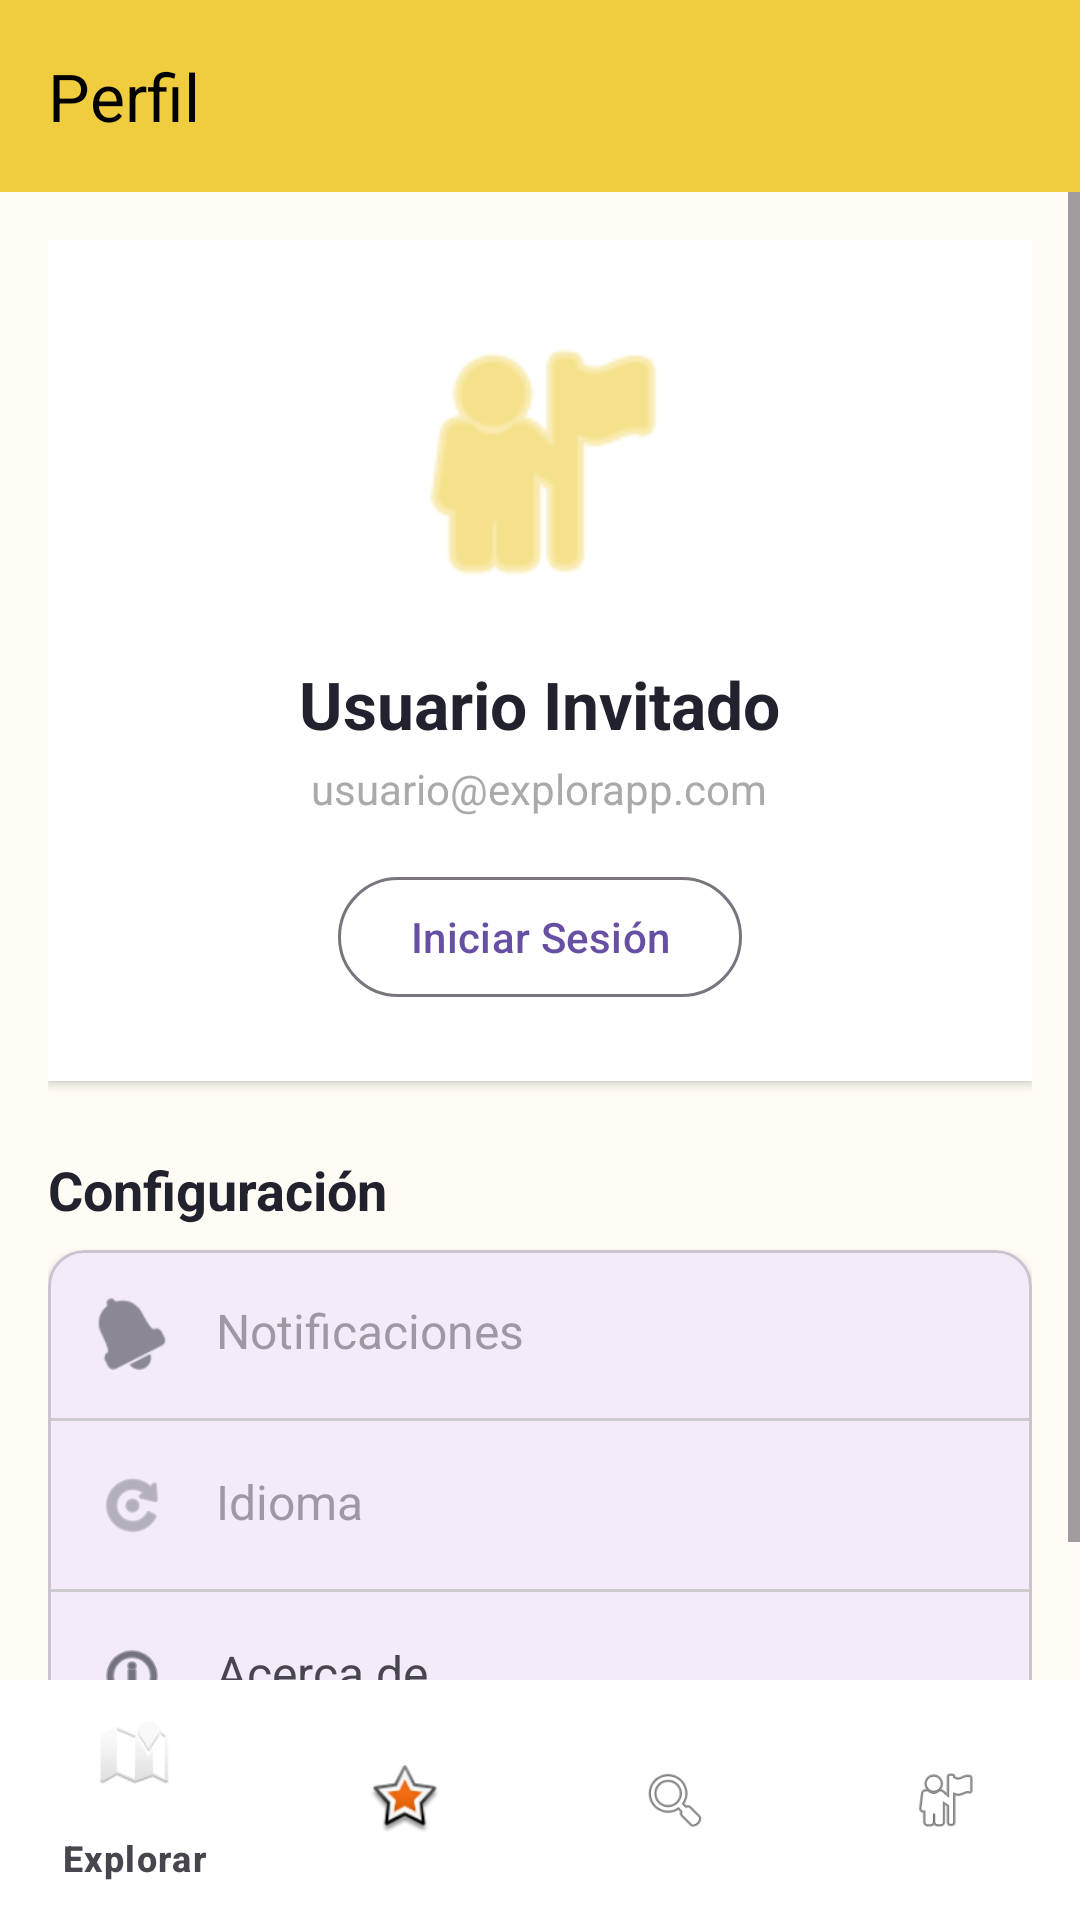

Icon click points for this 1080×1920 phone screenshot, format [x,y]:
popup reminder: [132,1334]
rotate: [132,1505]
